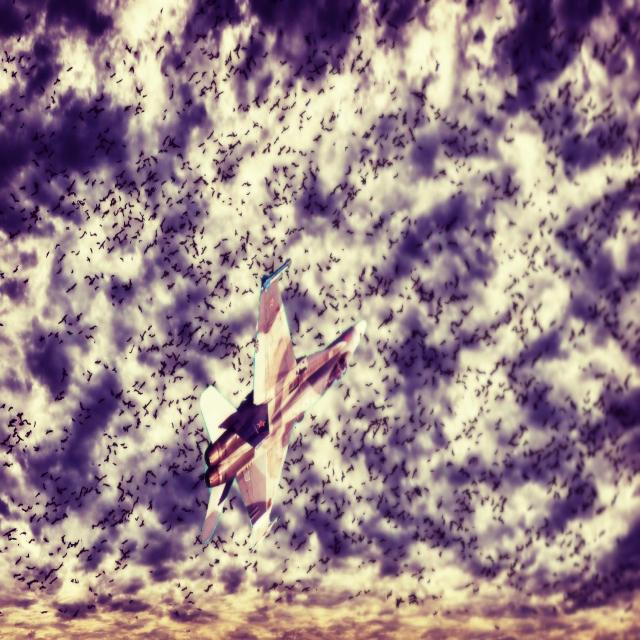airplane: (197, 257, 366, 551)
